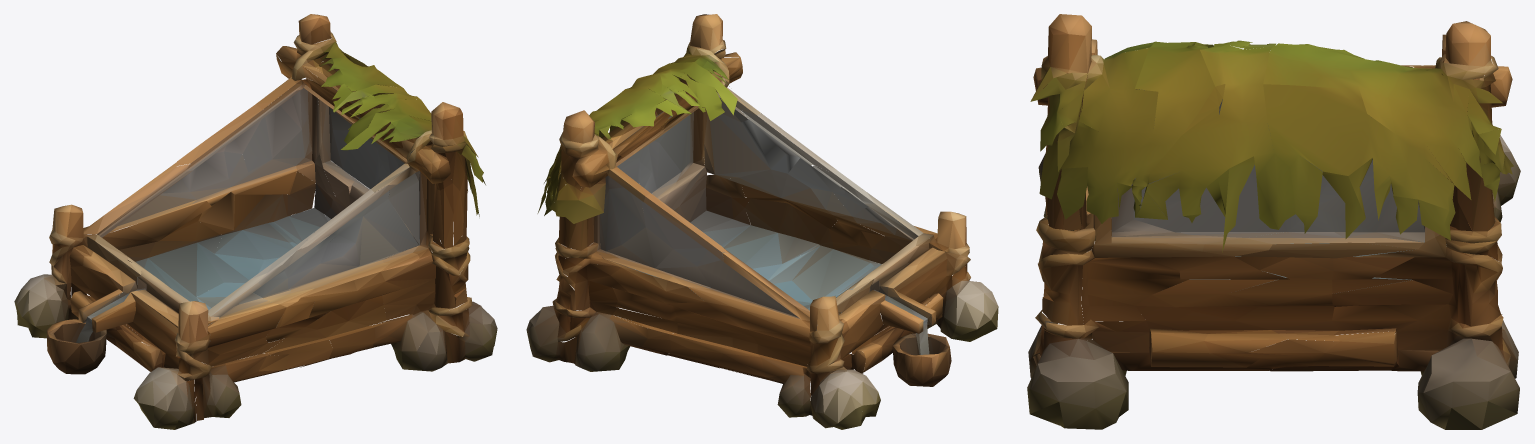
File: building-solarStill.glb
3 views of the same model, side by side, from view 1: azimuth 30°, elevation 25°; view 2: azimuth 150°, elevation 25°; view 3: azimuth 270°, elevation 25° (orthographic). The views are drawn at different scales.
Visible parts, largest first — view 1: 0_solarStill; view 2: 0_solarStill; view 3: 0_solarStill.
Boxes of the visible parts, x1,y1,x2,y2 form: 0_solarStill: (14, 14, 497, 429); 0_solarStill: (526, 14, 998, 429); 0_solarStill: (1027, 14, 1520, 429).
Bounding box in the file's own units: 1.53 × 1 × 1.16.
